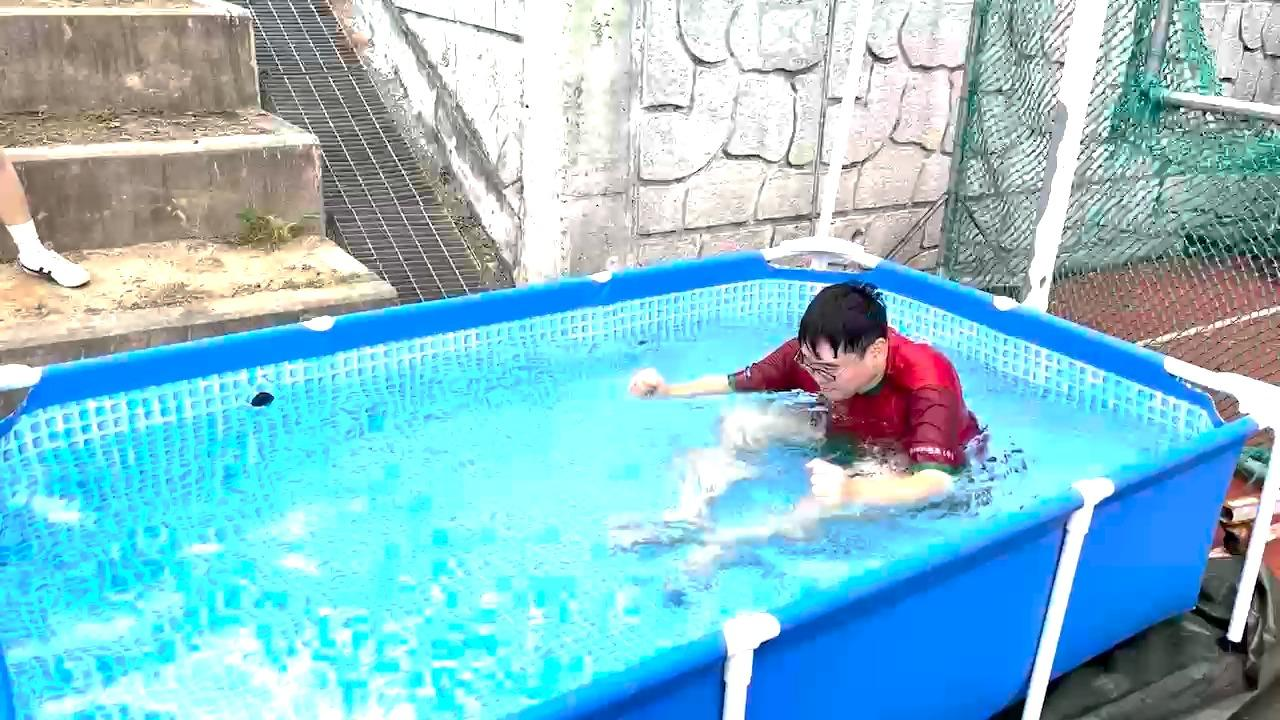Swimming: (572, 206, 1094, 598)
